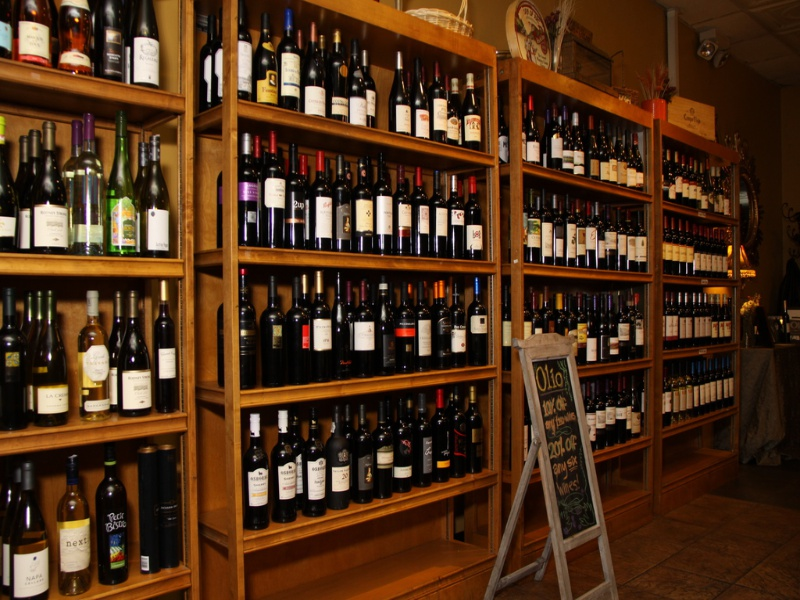wine: (200, 3, 500, 581), (505, 52, 772, 548), (1, 1, 195, 594)
